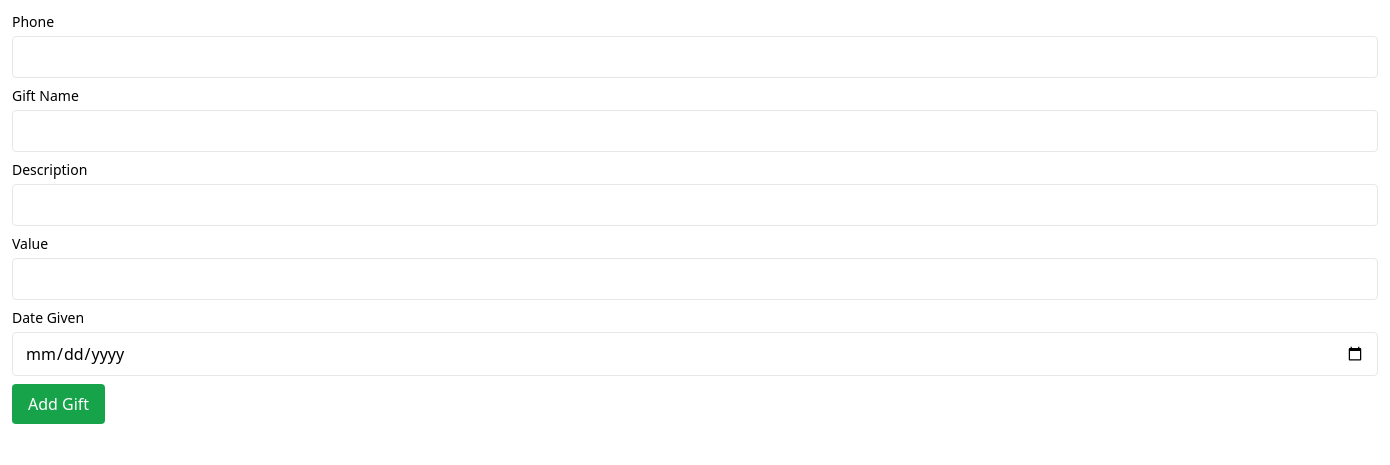
Gift donor phone suggestions › surfaces API failures instead of reporting no matching donors
This screenshot has width=1390, height=465.
Type "987" into the field with id "gift-phone" at (695, 57), box [12, 36, 1378, 78]
Wait 300 ms
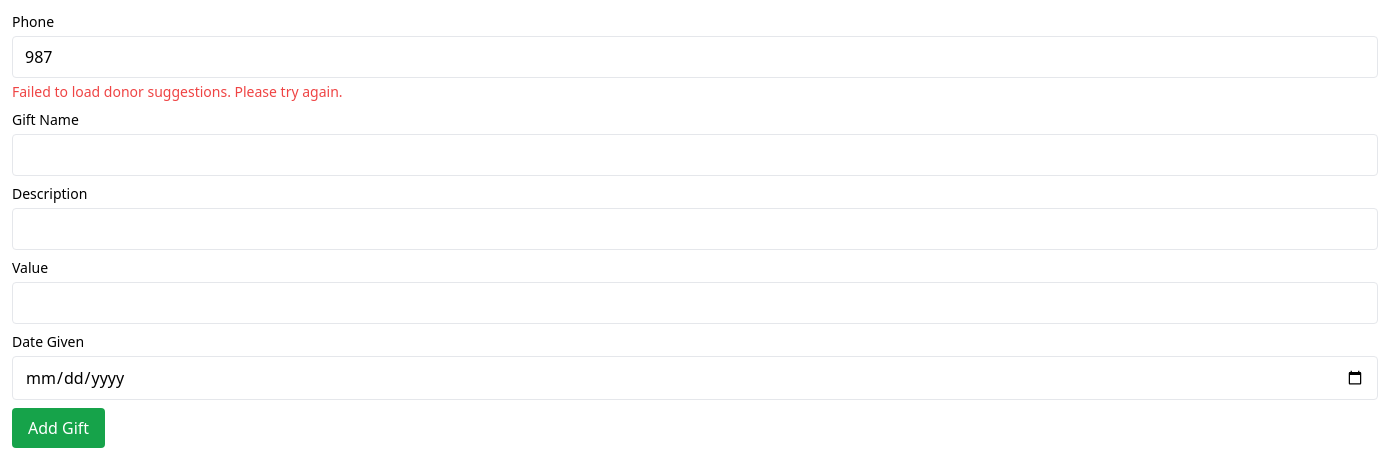
Check: the text "Failed to load donor suggestions." is shown, box [12, 82, 343, 101]
